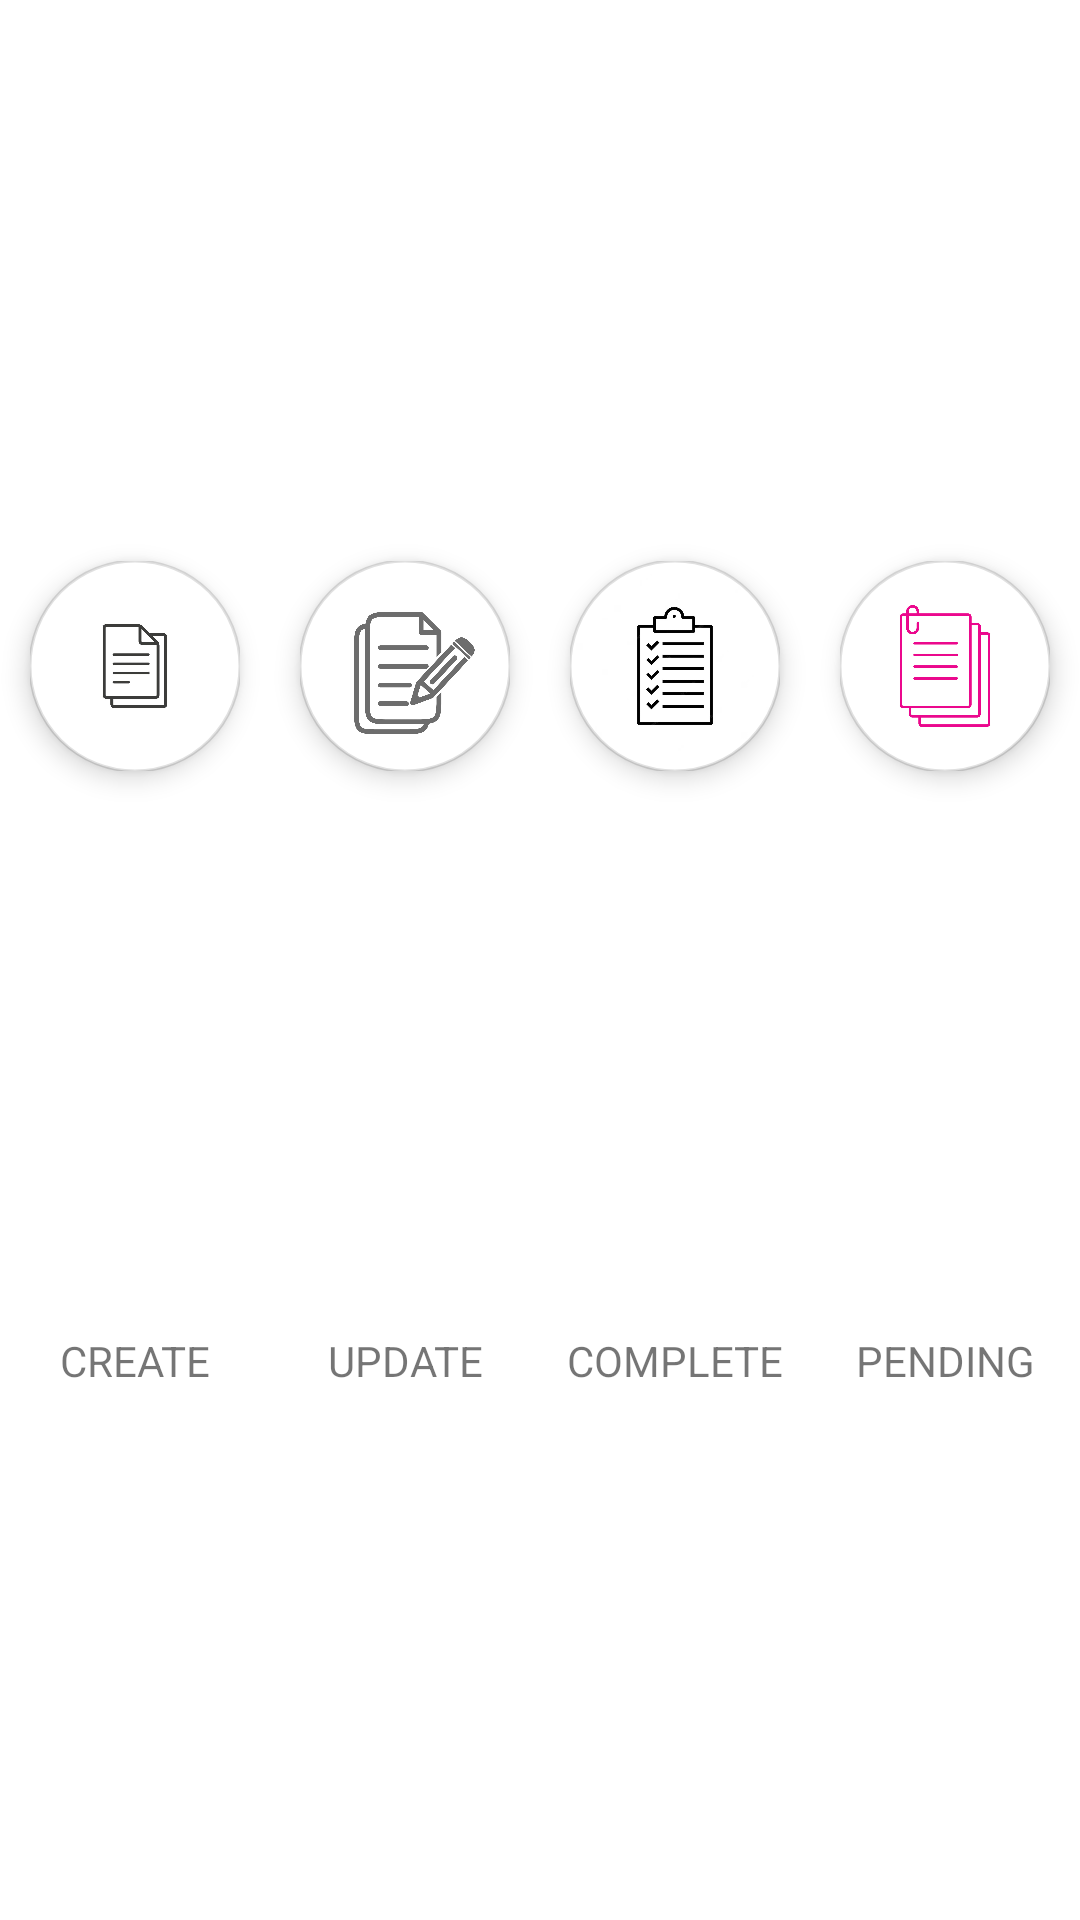

Locate icon controls on the screen. Image size 1080x1920, boxes as (x1, y1, x2, y2).
complete: (570, 561, 780, 771)
create order: (30, 561, 240, 771)
update: (300, 561, 510, 771)
